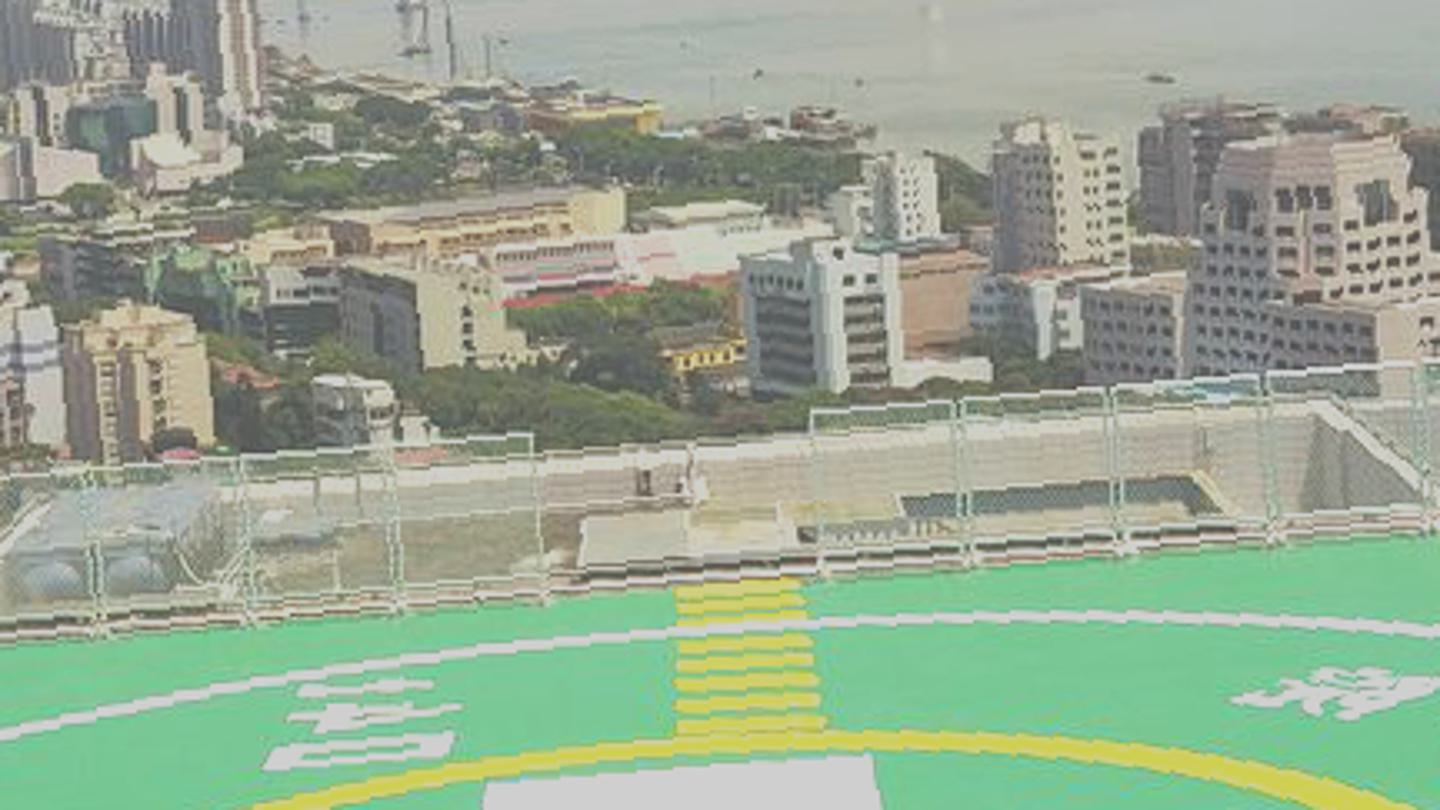Apron: (148, 690, 1440, 810)
